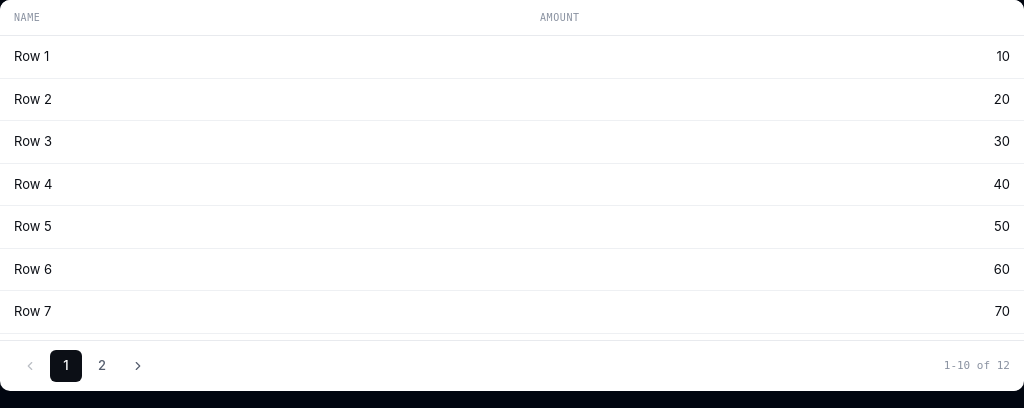
Test: SignalDataTable › paginates rows
Expected: the text "Row 11" is not shown
Click the button "2": (102, 366) [86,350,118,382]
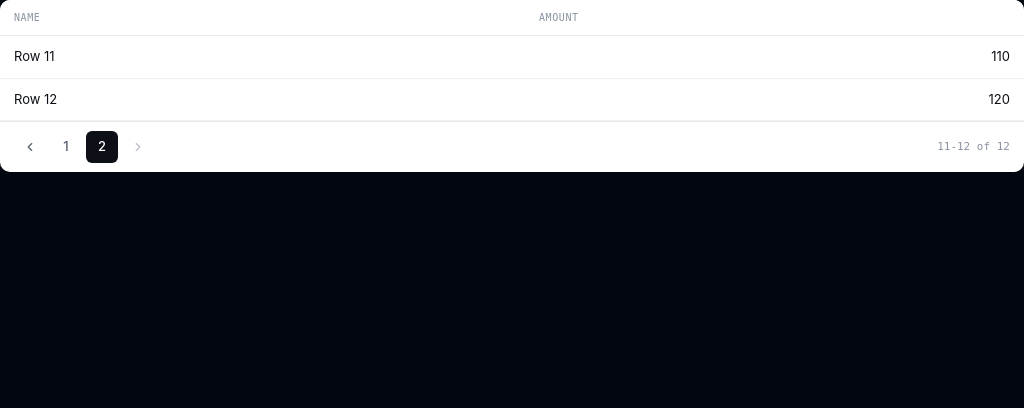
Now the text "Row 11" is shown, box [0,36,525,78]
